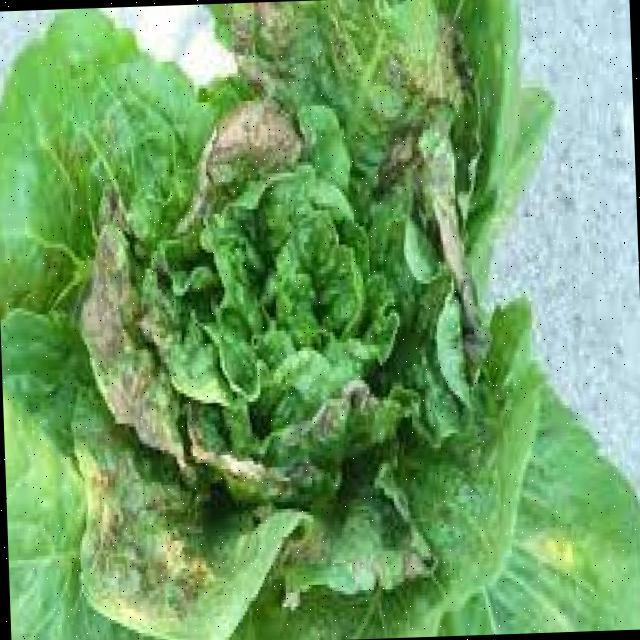Lettuce Mosaic Virus: (67, 94, 476, 631)
